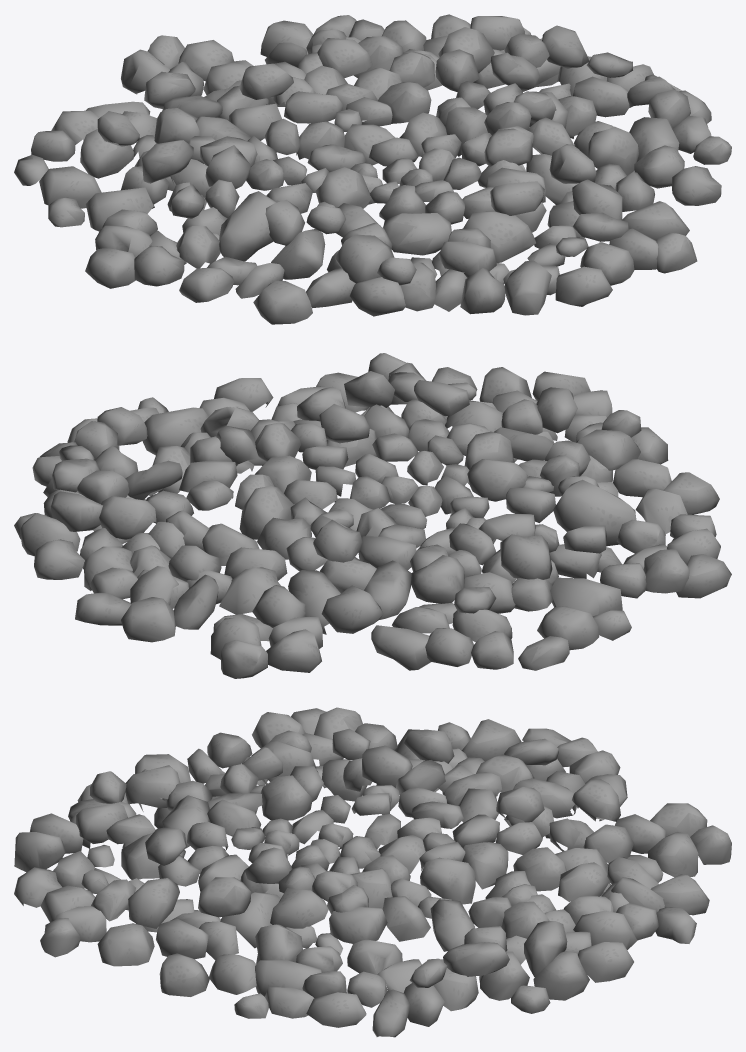
File: PebNest03.fbx
3 views of the same model, one above another, from view 1: azimuth 30°, elevation 25°; view 2: azimuth 150°, elevation 25°; view 3: azimuth 270°, elevation 25° (orthographic). The views are drawn at different scales.
Parts seen in each view (by area): view 1: PebNest03; view 2: PebNest03; view 3: PebNest03.
Part boxes in pixels (x1,y1,x2,y2): PebNest03: (14,14,731,324); PebNest03: (14,353,731,678); PebNest03: (14,707,731,1037).
Bounding box in the file's own units: 0.895 × 0.1085 × 0.8791.
